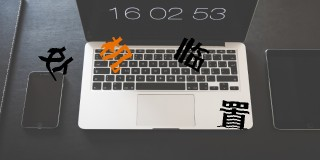临: (173, 36, 209, 72)
处: (38, 45, 73, 81)
机: (98, 35, 132, 73)
置: (217, 100, 250, 130)
